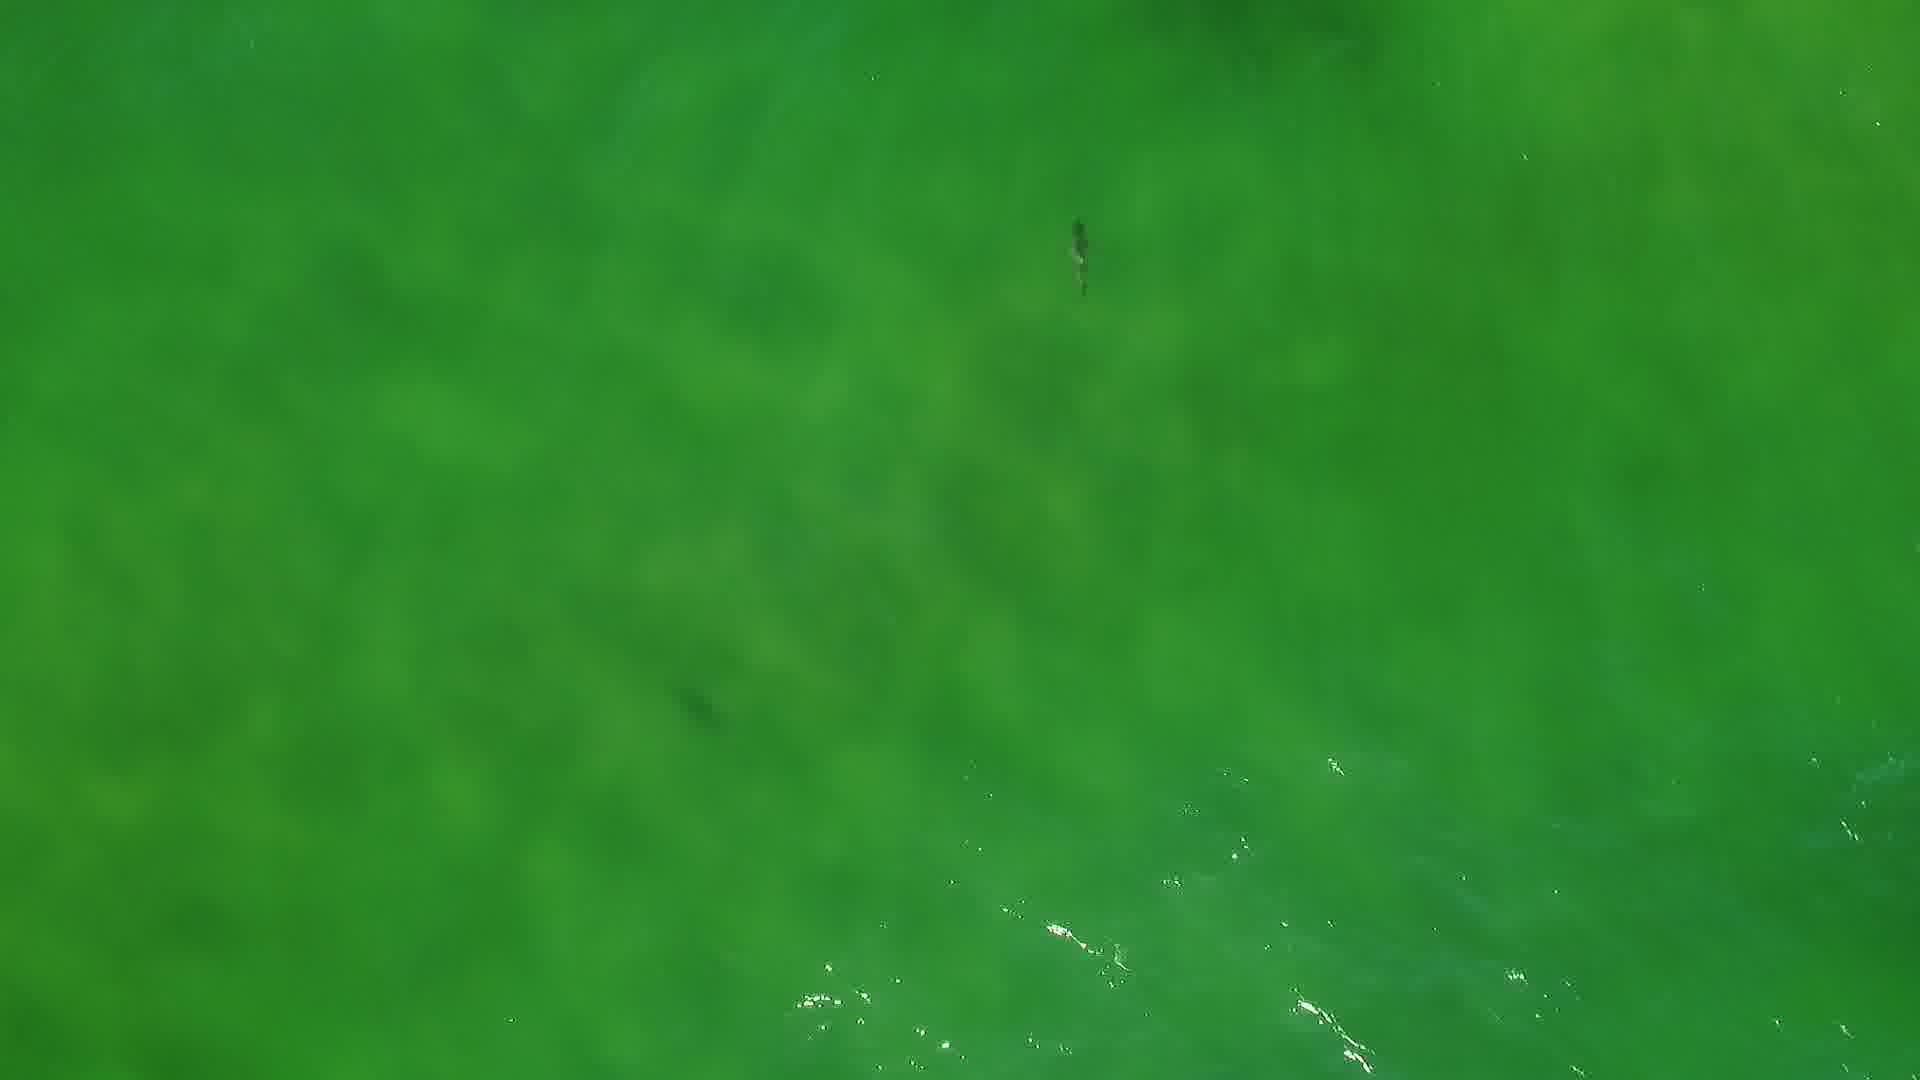shark: (1055, 212, 1108, 301)
